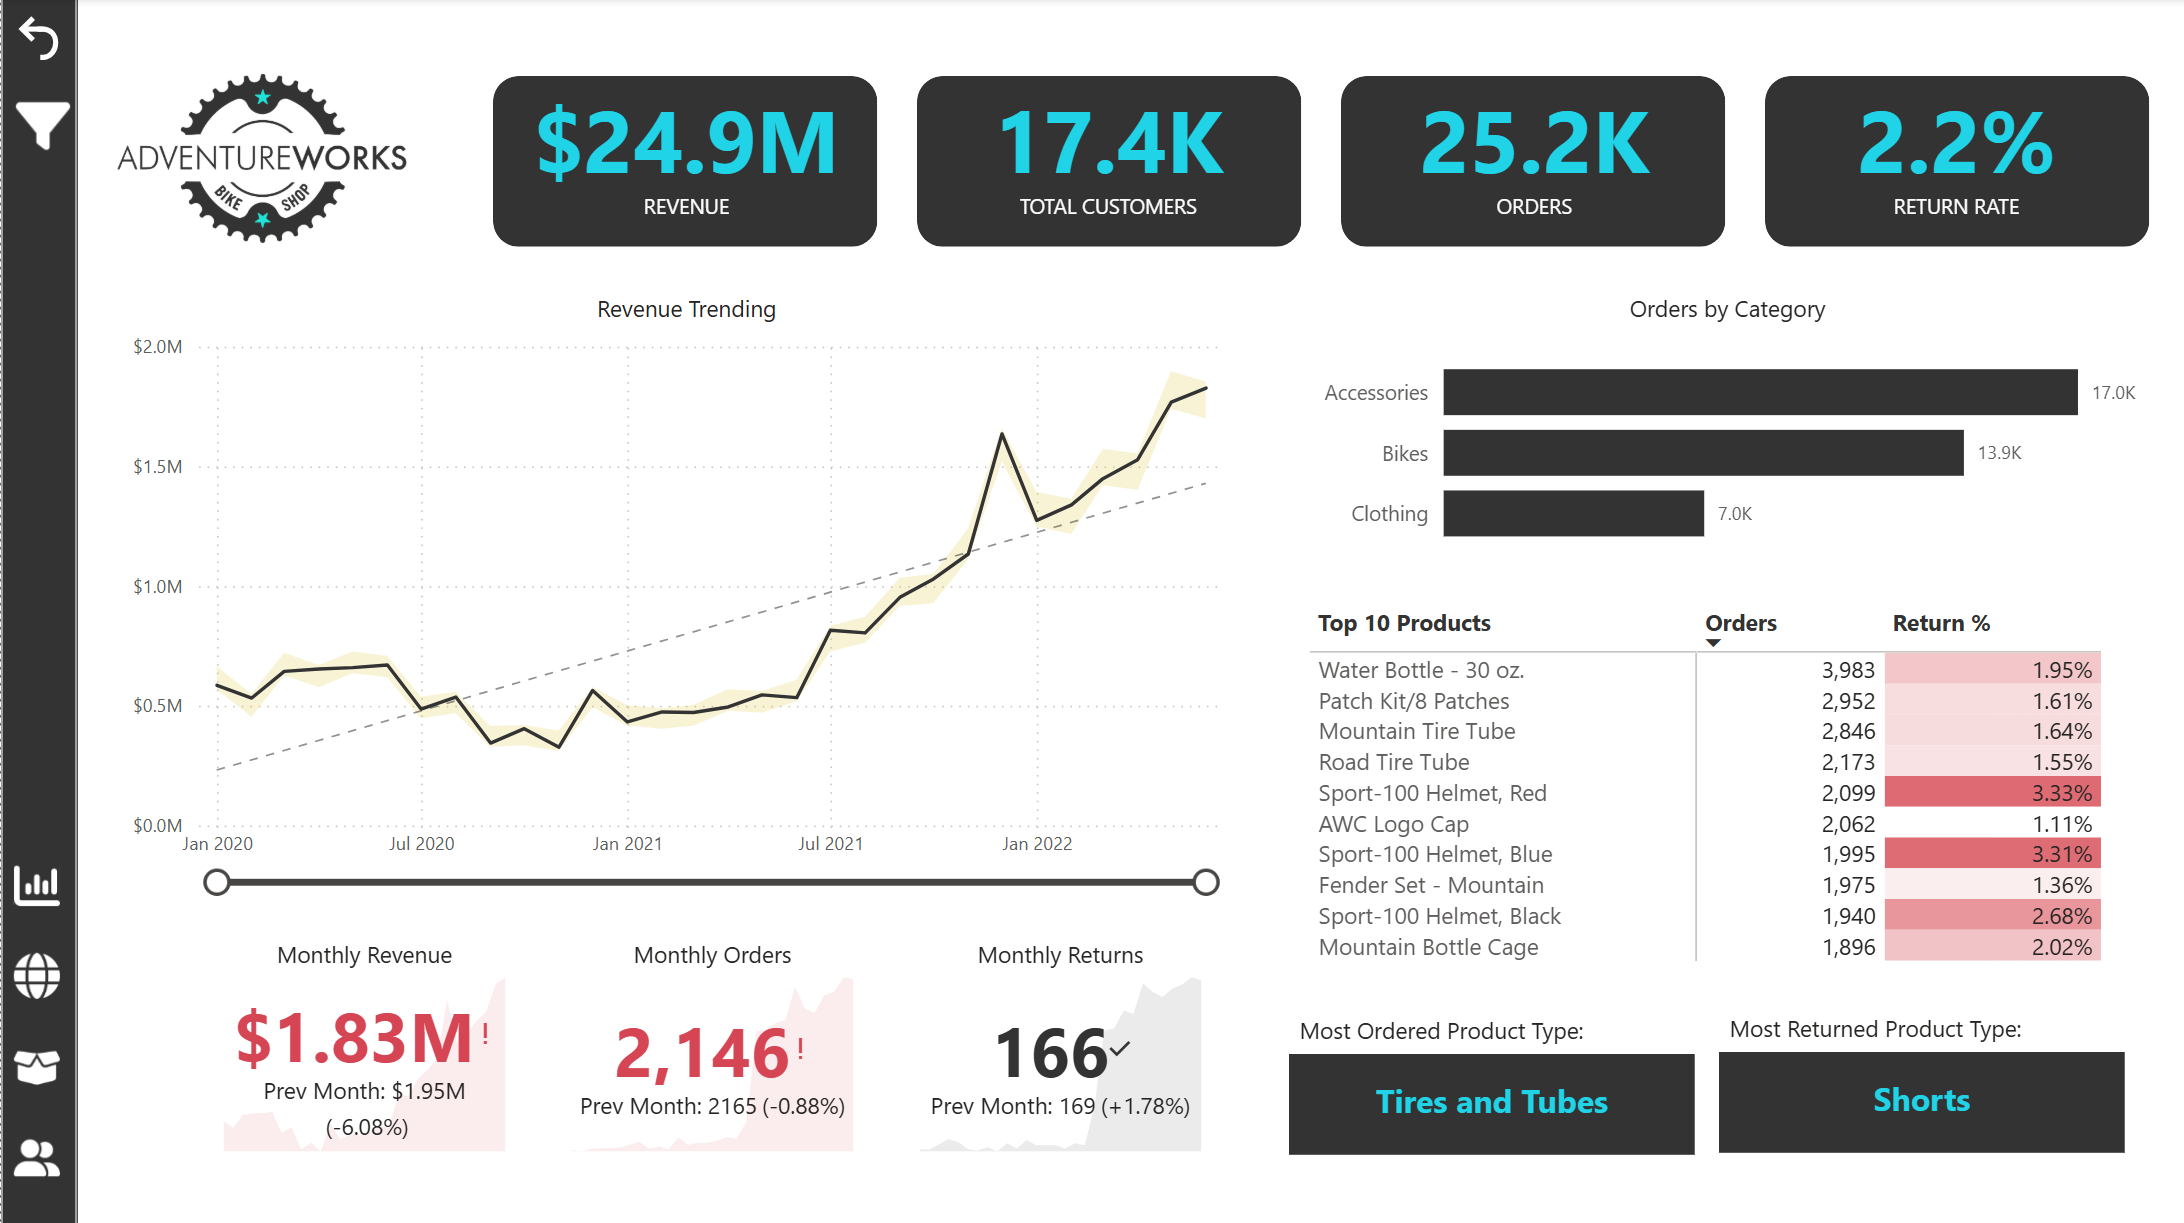

The dashboard page shown, as its layout file describes it:
{"tool":"powerbi","page":{"name":"Exec Dashboard","canvas":[1280,720],"ordinal":0},"visuals":[{"type":"card","fields":{"Values":["Measure Table.Total Revenue"]},"box":[268.8,13.8,263.8,150],"z":0,"group":"g2"},{"type":"image","title":"AW Logo","box":[45,27.5,217.5,133.8],"z":0},{"type":"group","id":"g1","title":"KPI Background","box":[287.6,45,970,100],"z":0,"group":"g3"},{"type":"shape","box":[287.6,45,225,100],"z":0,"group":"g1"},{"type":"actionButton","box":[3.5,502.2,36.3,35.1],"z":0,"group":"g4"},{"type":"shape","title":"Left Nav Background","box":[0,0,45,720],"z":1000},{"type":"group","id":"g2","title":"KPI Values","box":[268.8,13.8,1007.5,150],"z":1000,"group":"g3"},{"type":"card","fields":{"Values":["Measure Table.Total Customers"]},"box":[516.3,13.8,263.8,150],"z":1000,"group":"g2"},{"type":"shape","box":[535.7,45,225,100],"z":1000,"group":"g1"},{"type":"actionButton","box":[3.5,555.3,36.3,35.1],"z":1000,"group":"g4"},{"type":"group","id":"g3","title":"KPIs","box":[268.8,13.8,1007.5,150],"z":2000},{"type":"card","fields":{"Values":["Measure Table.Total Orders"]},"box":[765,13.8,263.8,150],"z":2000,"group":"g2"},{"type":"shape","box":[783.8,45,225,100],"z":2000,"group":"g1"},{"type":"actionButton","box":[3.5,608.3,36.3,35.1],"z":2000,"group":"g4"},{"type":"card","fields":{"Values":["Measure Table.Return Rate"]},"box":[1012.6,13.8,263.8,150],"z":3000,"group":"g2"},{"type":"shape","box":[1032,45,225,100],"z":3000,"group":"g1"},{"type":"lineChart","title":"Revenue Trending","fields":{"Y":["Measure Table.Total Revenue"],"Category":["Calendar Lookup.Start of Month"]},"box":[71.2,172.5,660,356.2],"z":3000},{"type":"actionButton","box":[3.5,661.4,36.3,35.1],"z":3000,"group":"g4"},{"type":"kpi","title":"Monthly Revenue","fields":{"Indicator":["Measure Table.Total Revenue"],"TrendLine":["Calendar Lookup.Start of Month"],"Goal":["Measure Table.Revenue Target"]},"box":[125,550,175,130],"z":4000},{"type":"kpi","title":"Monthly Orders","fields":{"TrendLine":["Calendar Lookup.Start of Month"],"Indicator":["Measure Table.Total Orders"],"Goal":["Measure Table.Previous Month Orders"]},"box":[328.8,550,175,130],"z":5000},{"type":"kpi","title":"Monthly Returns","fields":{"TrendLine":["Calendar Lookup.Start of Month"],"Indicator":["Measure Table.Total Returns"],"Goal":["Measure Table.Previous Month Returns"]},"box":[532.5,550,175,130],"z":6000},{"type":"clusteredBarChart","title":"Orders by Category","fields":{"Category":["Product Categories Lookup.CategoryName"],"Y":["Measure Table.Total Orders"]},"box":[765,172.5,492.5,163.8],"z":7000},{"type":"pivotTable","fields":{"Rows":["Product Lookup.ProductName"],"Values":["Measure Table.Total Orders","Measure Table.Return Rate"]},"box":[761.2,351.2,496.2,218.8],"z":8000},{"type":"card","fields":{"Values":["Min(Product Subcategories Lookup.SubcategoryName)"]},"box":[754.4,618.1,237.5,58.8],"z":9000},{"type":"textbox","box":[755.6,590.6,191.2,35],"z":10000},{"type":"card","fields":{"Values":["Min(Product Subcategories Lookup.SubcategoryName)"]},"box":[1005.6,616.9,237.5,58.8],"z":11000},{"type":"textbox","box":[1006.9,589.4,191.2,35],"z":12000},{"type":"actionButton","box":[4.7,5.9,36.3,35.1],"z":13000},{"type":"group","id":"g4","title":"Navigation Buttons","box":[3.5,502.2,36.3,194.3],"z":14000},{"type":"actionButton","box":[4.7,55,39.8,39.8],"z":15000}]}

Visuals, with their boxes on the page's 1280x720 design canvas (x1, y1, x2, y2). These are canvas units, not pixel positions in the 2184x1223 screenshot, which may show the page scaled, cropped or inside an application window:
card - Measure Table.Total Revenue: 269 14 533 164
"AW Logo" image: 45 28 262 161
"KPI Background" group: 288 45 1258 145
shape: 288 45 513 145
actionButton: 4 502 40 537
"Left Nav Background" shape: 0 0 45 720
"KPI Values" group: 269 14 1276 164
card - Measure Table.Total Customers: 516 14 780 164
shape: 536 45 761 145
actionButton: 4 555 40 590
"KPIs" group: 269 14 1276 164
card - Measure Table.Total Orders: 765 14 1029 164
shape: 784 45 1009 145
actionButton: 4 608 40 643
card - Measure Table.Return Rate: 1013 14 1276 164
shape: 1032 45 1257 145
"Revenue Trending" lineChart: 71 172 731 529
actionButton: 4 661 40 696
"Monthly Revenue" kpi: 125 550 300 680
"Monthly Orders" kpi: 329 550 504 680
"Monthly Returns" kpi: 532 550 708 680
"Orders by Category" clusteredBarChart: 765 172 1258 336
pivotTable - Product Lookup.ProductName x Measure Table.Total Orders: 761 351 1257 570
card - Min(Product Subcategories Lookup.SubcategoryName): 754 618 992 677
textbox: 756 591 947 626
card - Min(Product Subcategories Lookup.SubcategoryName): 1006 617 1243 676
textbox: 1007 589 1198 624
actionButton: 5 6 41 41
"Navigation Buttons" group: 4 502 40 696
actionButton: 5 55 44 95
